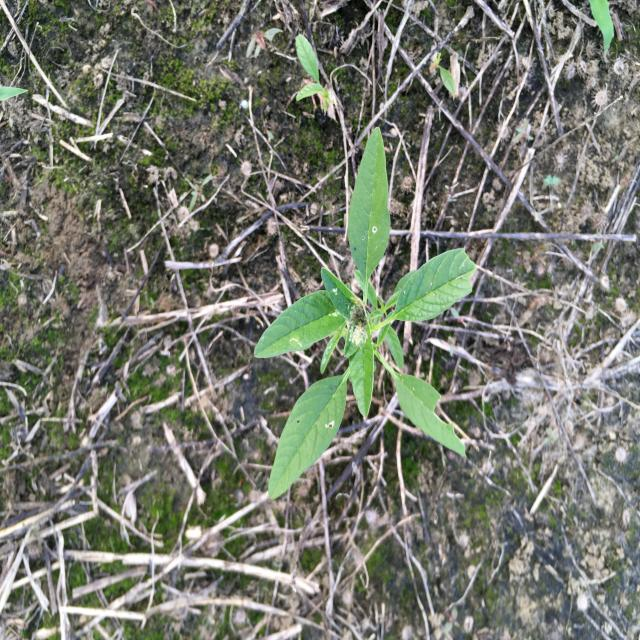Waterhemp: (253, 122, 482, 503)
